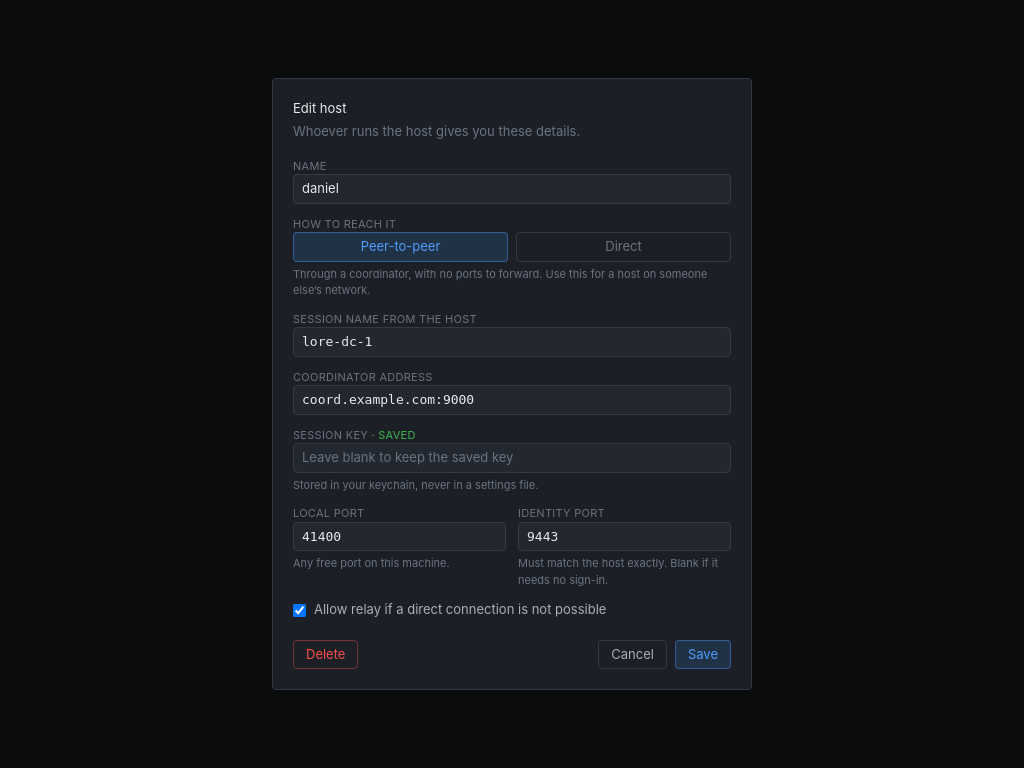
SessionForm deletion › keeps the session when deleting fails
Click the button "Delete" at point(326, 655), box [293, 640, 358, 669]
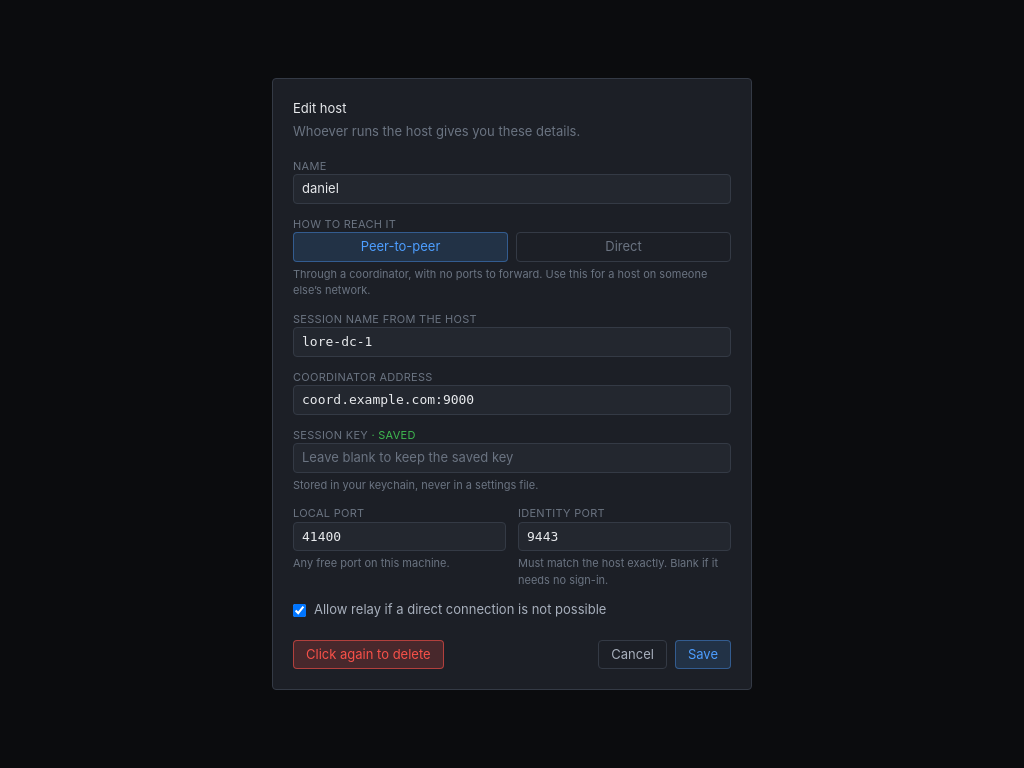
Click the button "Click again to delete" at point(368, 655), box [293, 640, 444, 669]
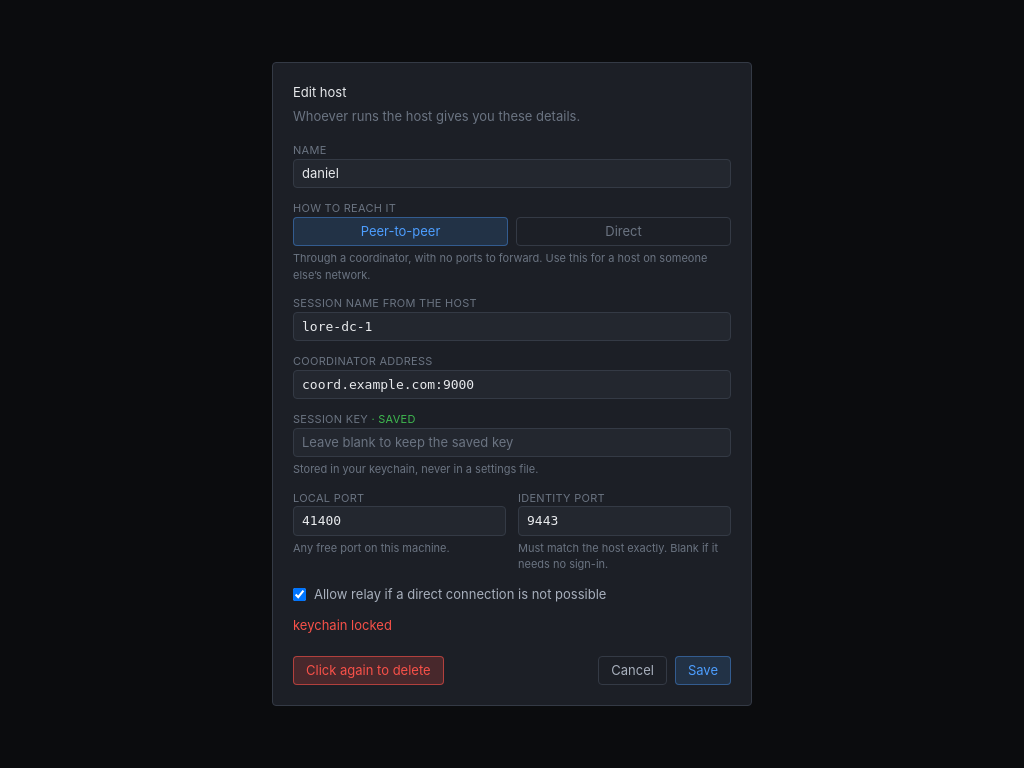
Now the text "keychain locked" is shown, box [293, 617, 392, 633]
